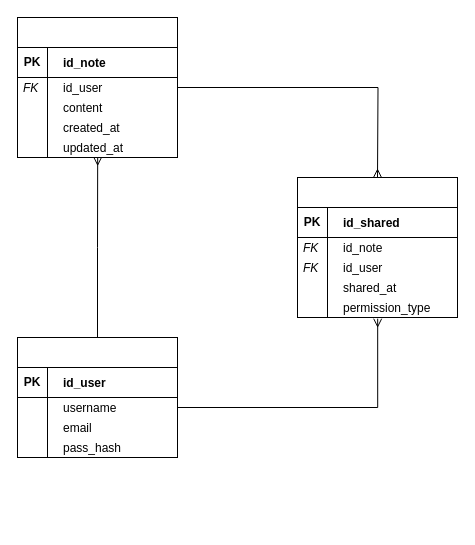
This 475x545 diagram has some shape labels left out. Here are the shapes that lost their labels. From the top down, the box of each, then its label:
(16, 16, 178, 48): Notes
(296, 176, 458, 208): SharedNotes
(16, 336, 178, 368): Users
